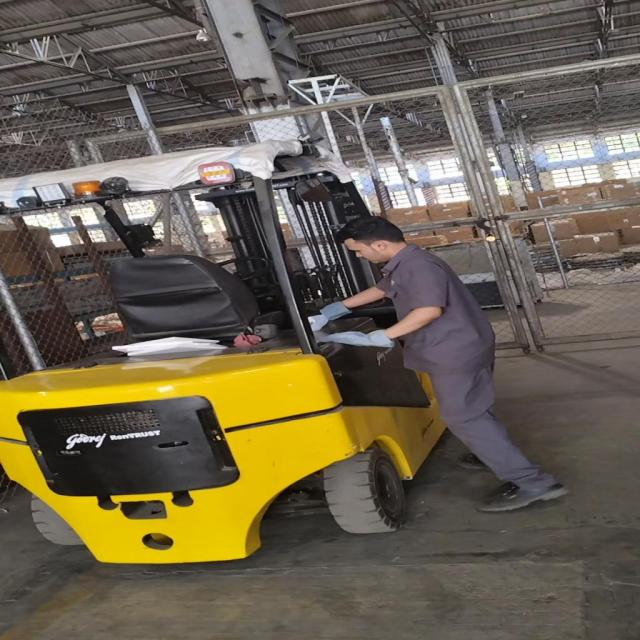Gloves-Detection: (315, 330, 389, 352), (302, 301, 344, 324)
